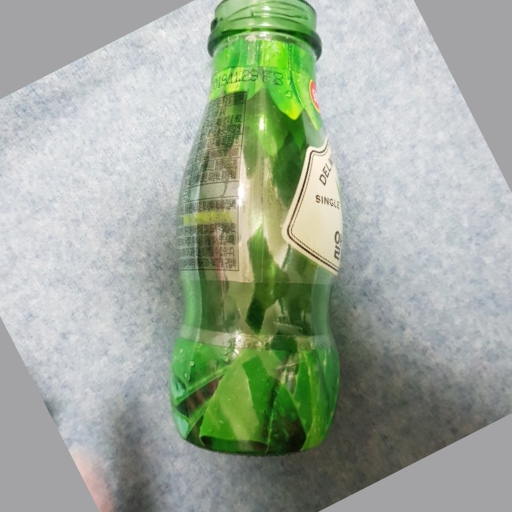Glass_4: (162, 1, 345, 455)
